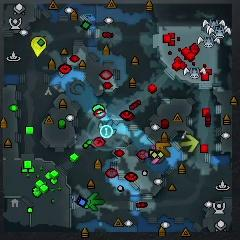Other: (101, 125, 113, 139)
p4: (32, 36, 47, 57)
x1: (145, 145, 158, 164)
x2: (181, 134, 199, 152)
x3: (99, 119, 116, 136)
x4: (86, 194, 104, 210)
x5: (156, 142, 171, 157)
